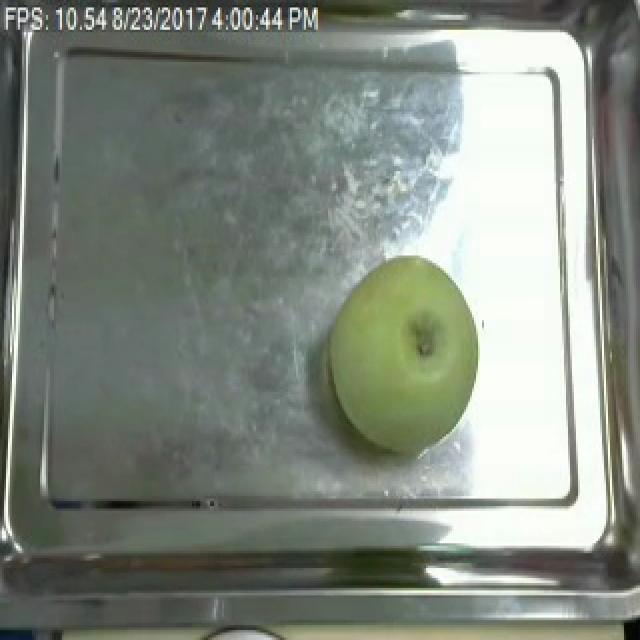50-_ripeness: (324, 242, 485, 462)
